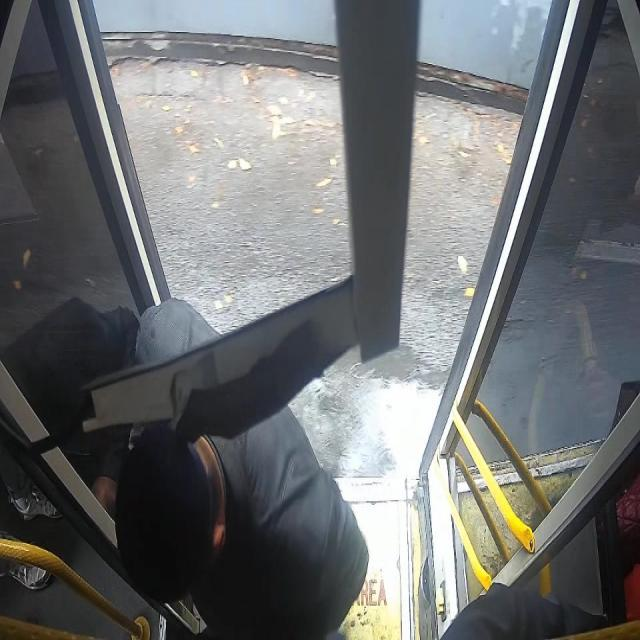open: (76, 1, 578, 487)
